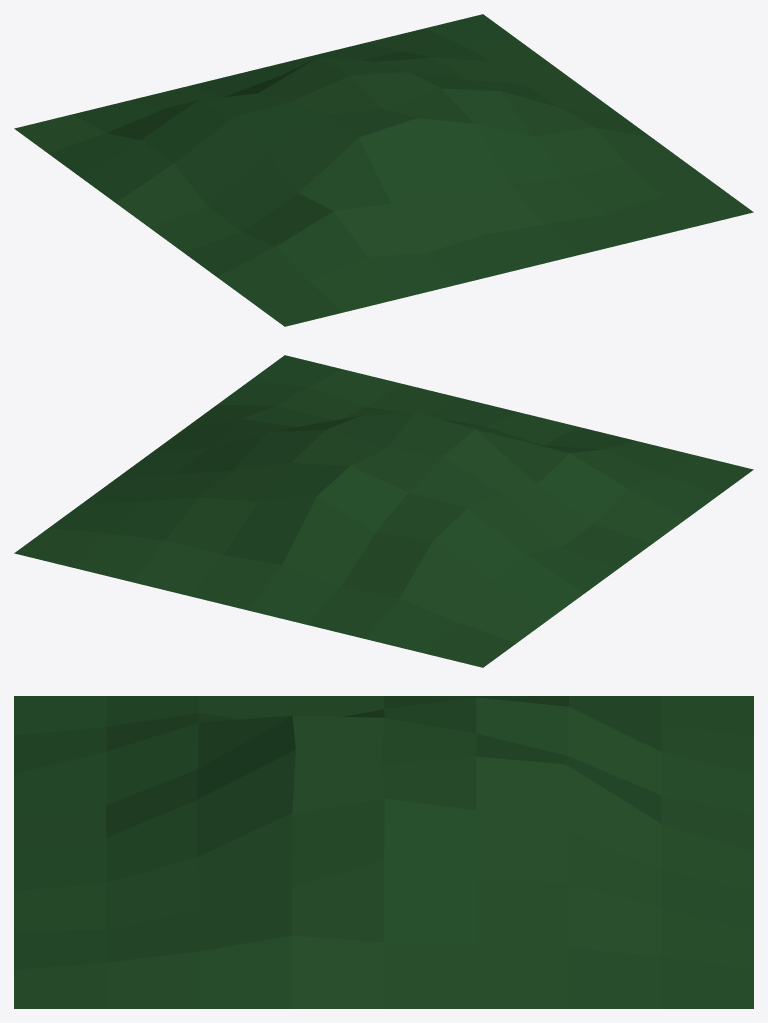
The model's file is Terrain_13_Dark_Green.fbx.
The picture shows the model from 3 angles, top to bottom: view 1: azimuth 30°, elevation 25°; view 2: azimuth 150°, elevation 25°; view 3: azimuth 270°, elevation 25°; orthographic projection. The views are drawn at different scales.
Parts seen in each view (by area): view 1: Terrain_13_Dark_Green; view 2: Terrain_13_Dark_Green; view 3: Terrain_13_Dark_Green.
Boxes of the visible parts, x1=… form: Terrain_13_Dark_Green: x1=14, y1=14, x2=753, y2=326; Terrain_13_Dark_Green: x1=14, y1=355, x2=753, y2=667; Terrain_13_Dark_Green: x1=14, y1=696, x2=753, y2=1008.
Bounding box in the file's own units: 6000 × 926 × 6000.
